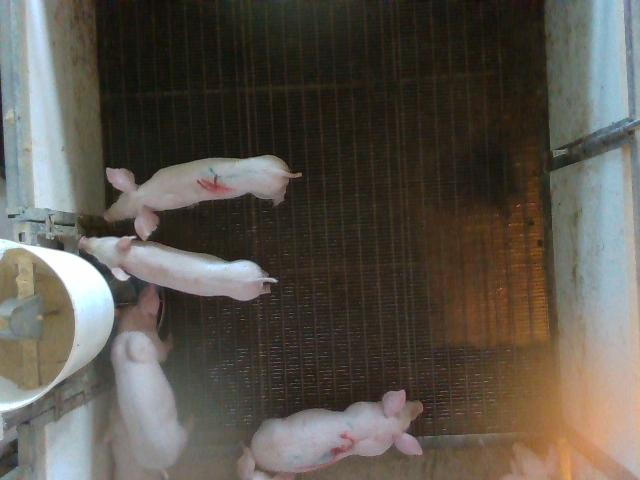pig-3: (250, 390, 422, 472)
pig-4: (104, 155, 301, 239)
